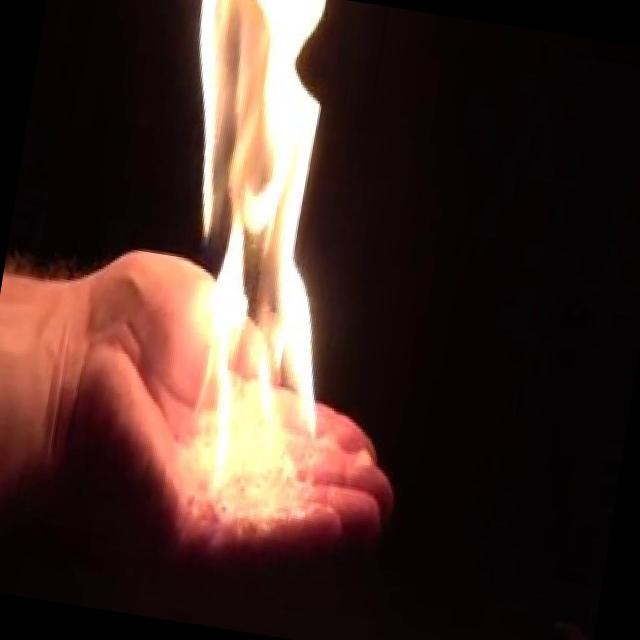Fire: (122, 0, 389, 509)
